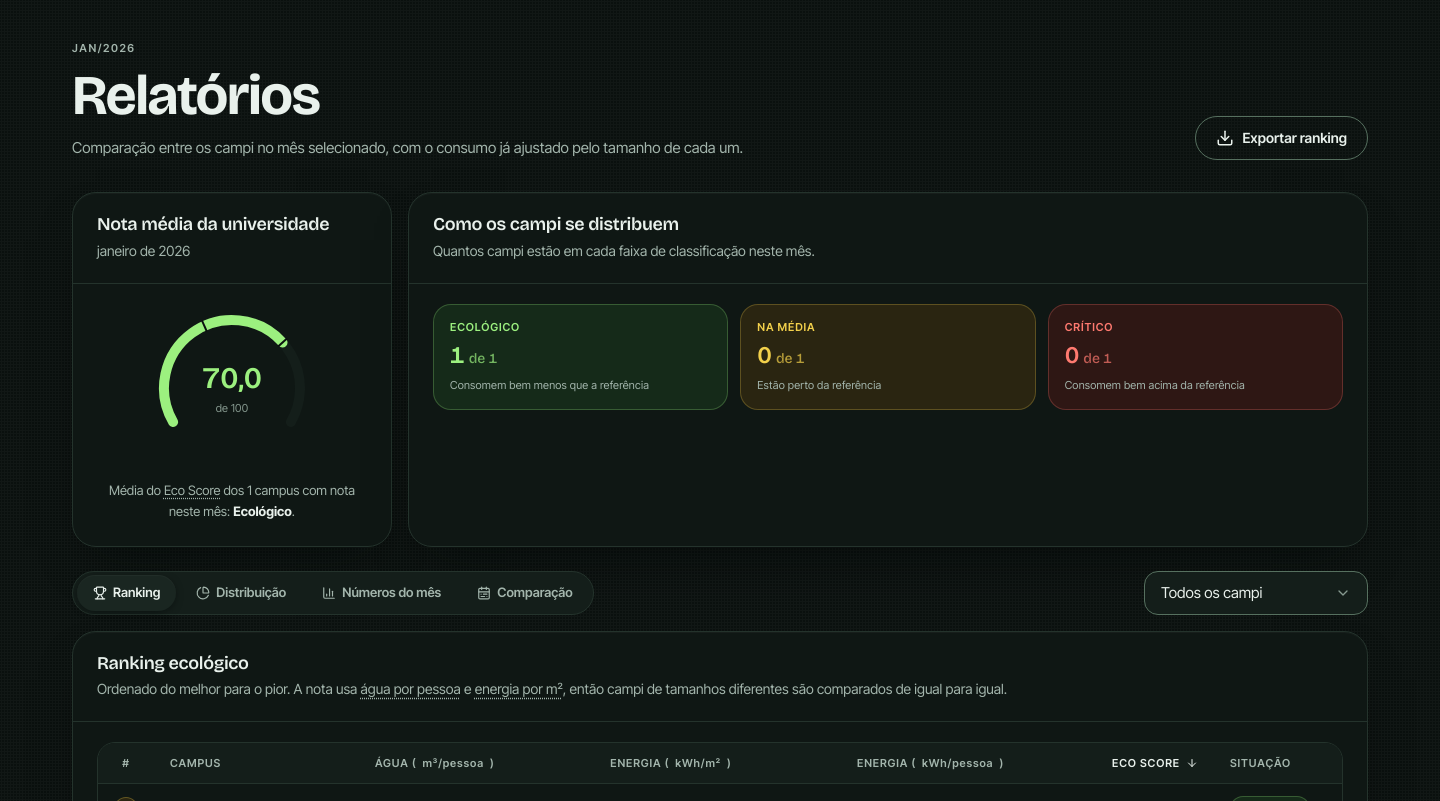
Test case: Relatórios › a aba Comparação mostra as variações e diz "sem base" quando falta o ano anterior (R.3)
This screenshot has width=1440, height=801.
Press the mouse on the tab "Comparação" at x=525, y=593, box [461, 575, 589, 611]
(page scrolled)
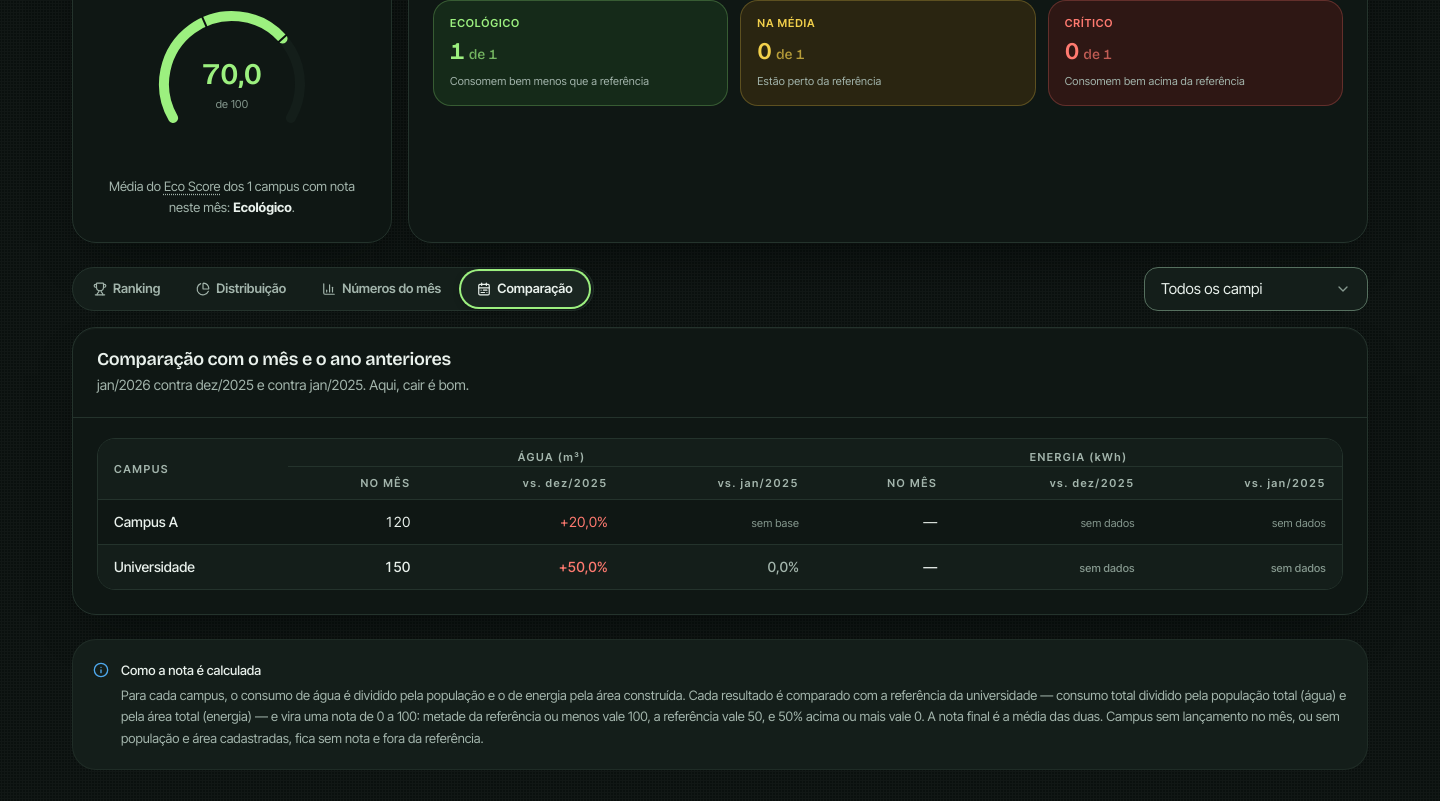
Expected: the text "Campus A" shows "+20,0%", [560, 513, 608, 530]
Expected: the text "Campus A" shows "sem base", [752, 516, 799, 530]
Expected: the text "Campus A" shows "sem dados", [1081, 516, 1135, 530]
